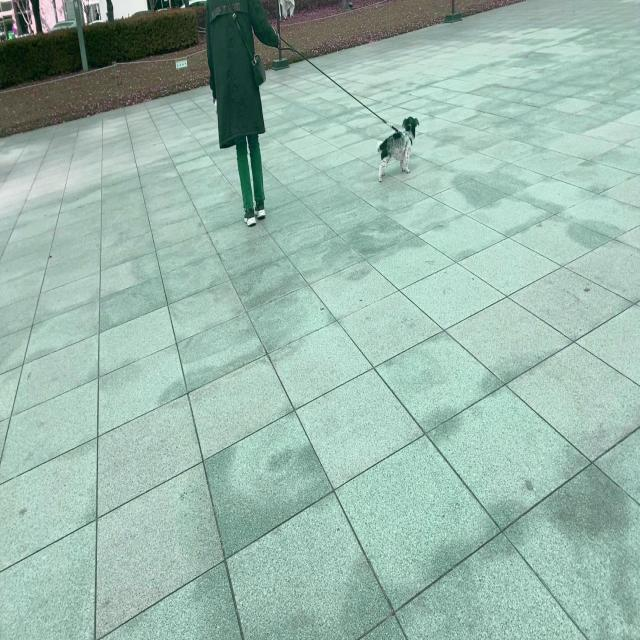Leashed_Dog: (229, 21, 420, 185)
